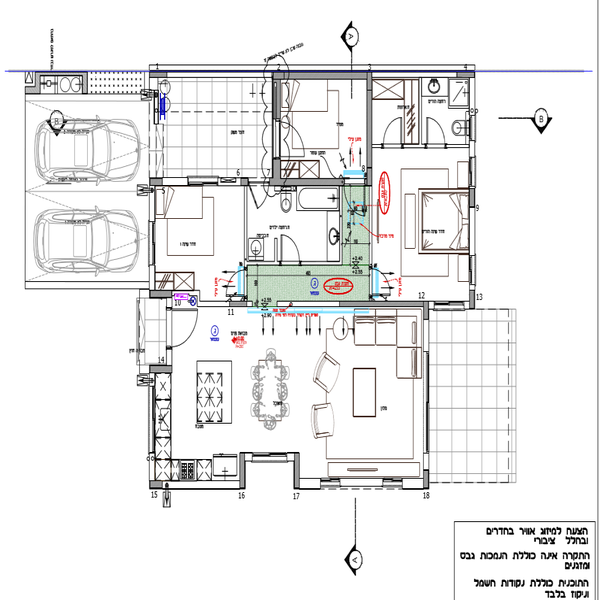door: (270, 117, 316, 160), (167, 303, 197, 347), (276, 232, 303, 268), (426, 115, 448, 154), (381, 113, 402, 152)
room: (159, 294, 434, 486), (148, 174, 376, 306), (148, 66, 377, 194), (369, 67, 481, 311)
wall: (340, 295, 426, 308), (275, 69, 371, 80), (367, 75, 374, 186), (280, 177, 347, 188), (268, 78, 284, 118), (147, 364, 173, 374), (273, 158, 280, 184), (151, 290, 173, 298)
window: (424, 353, 434, 451), (147, 388, 157, 453), (148, 221, 158, 264), (252, 452, 288, 463), (188, 174, 218, 186), (468, 255, 479, 285), (468, 155, 477, 187), (466, 113, 477, 139), (321, 476, 338, 487), (384, 475, 401, 486)
